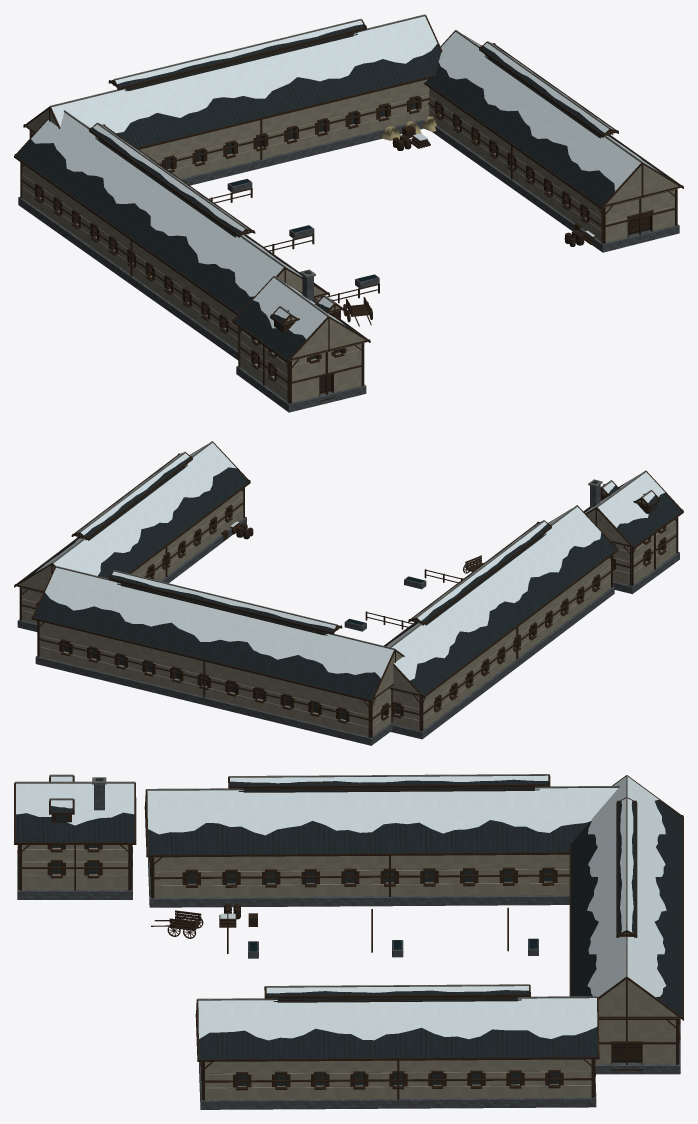
Rendered from stables.glb.
3 views of the same model, one above another, from view 1: azimuth 30°, elevation 25°; view 2: azimuth 150°, elevation 25°; view 3: azimuth 270°, elevation 25° (orthographic). The views are drawn at different scales.
Parts seen in each view (by area): view 1: ENV_R5_Snow, ENV_R5_Plaster, ENV_R5_Slate, ENV_R5_Timber, ENV_R5_Stone, ENV_R5_Trim, ENV_R5_Dark; view 2: ENV_R5_Snow, ENV_R5_Plaster, ENV_R5_Slate, ENV_R5_Timber, ENV_R5_Stone, ENV_R5_Trim, ENV_R5_Dark; view 3: ENV_R5_Snow, ENV_R5_Slate, ENV_R5_Plaster, ENV_R5_Timber, ENV_R5_Stone, ENV_R5_Dark, ENV_R5_Trim.
Boxes of the visible parts, bbox=[...] form: ENV_R5_Snow: bbox=[31, 16, 659, 339]; ENV_R5_Plaster: bbox=[22, 79, 681, 402]; ENV_R5_Slate: bbox=[16, 24, 678, 359]; ENV_R5_Timber: bbox=[14, 15, 683, 403]; ENV_R5_Stone: bbox=[18, 108, 679, 412]; ENV_R5_Trim: bbox=[49, 14, 642, 316]; ENV_R5_Dark: bbox=[41, 32, 613, 375]; ENV_R5_Snow: bbox=[35, 443, 664, 680]; ENV_R5_Plaster: bbox=[16, 489, 676, 736]; ENV_R5_Slate: bbox=[15, 457, 681, 699]; ENV_R5_Timber: bbox=[14, 442, 683, 737]; ENV_R5_Stone: bbox=[17, 485, 679, 745]; ENV_R5_Trim: bbox=[51, 441, 652, 649]; ENV_R5_Dark: bbox=[64, 464, 660, 719]; ENV_R5_Snow: bbox=[16, 775, 666, 1040]; ENV_R5_Slate: bbox=[16, 779, 682, 1059]; ENV_R5_Plaster: bbox=[22, 845, 680, 1099]; ENV_R5_Timber: bbox=[14, 774, 683, 1100]; ENV_R5_Stone: bbox=[17, 784, 680, 1109]; ENV_R5_Dark: bbox=[52, 778, 635, 1085]; ENV_R5_Trim: bbox=[15, 774, 627, 1000].
Size of the model in its own units: 71.81 by 15.13 by 78.93.
10 materials, 8 textured.
